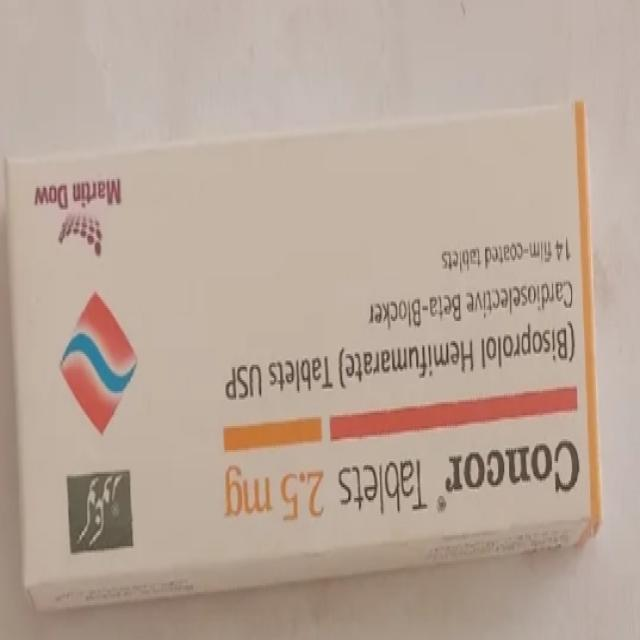drug-name: (438, 435, 583, 496)
